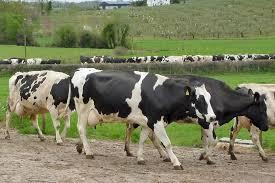cow: (72, 67, 217, 171), (122, 75, 269, 157), (4, 71, 75, 146), (228, 83, 275, 162)
